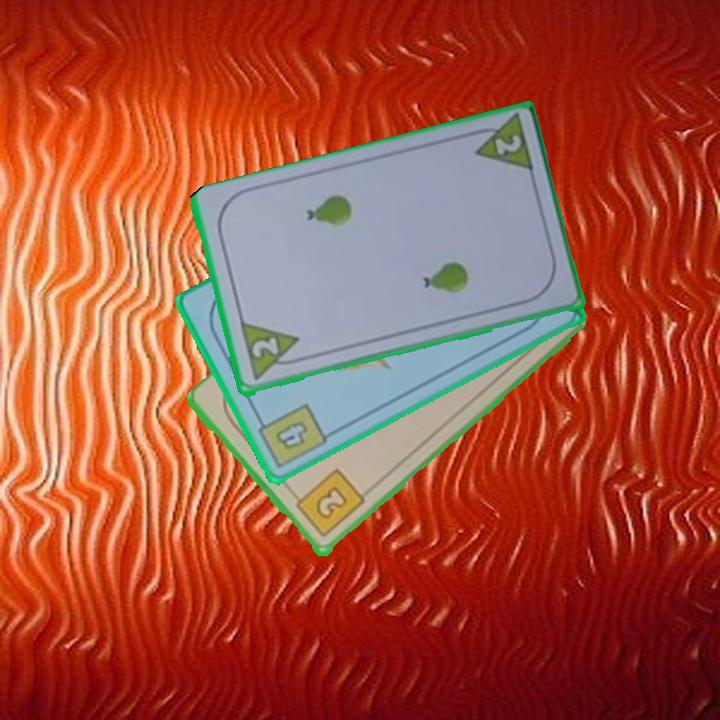2b: (288, 466, 368, 541)
2p: (464, 112, 537, 177), (248, 334, 281, 361)
4b: (252, 400, 331, 472)
